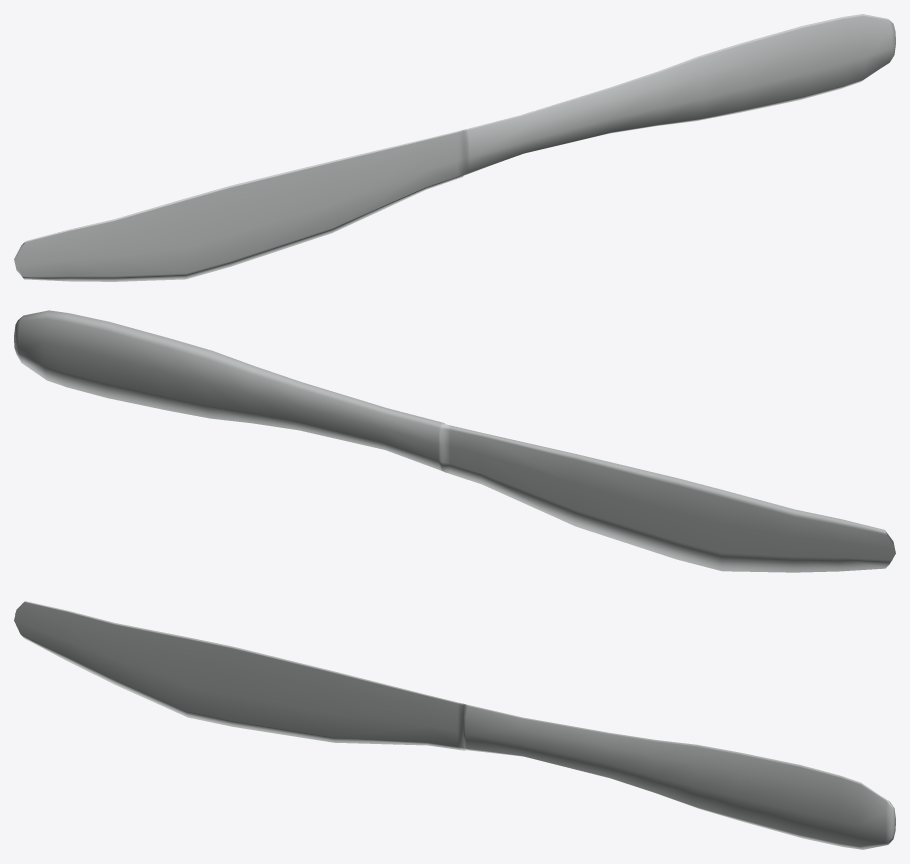
The model's file is ButterKnife_1.obj.
The picture shows the model from 3 angles, top to bottom: view 1: azimuth 30°, elevation 25°; view 2: azimuth 150°, elevation 25°; view 3: azimuth 330°, elevation 25°; orthographic projection.
Visible parts, largest first — view 1: Knife.001; view 2: Knife.001; view 3: Knife.001.
Boxes of the visible parts, x1=… form: Knife.001: x1=14, y1=14, x2=895, y2=281; Knife.001: x1=14, y1=310, x2=895, y2=572; Knife.001: x1=14, y1=601, x2=895, y2=849.
Bounding box in the file's own units: 0.000109 × 1.21e-05 × 2.37e-06.
